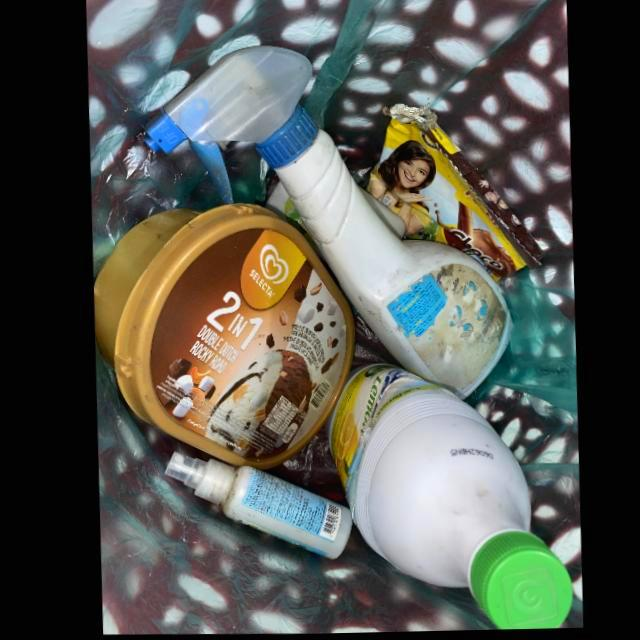food_wrapper: (349, 105, 541, 283)
plastic_bottle: (142, 48, 507, 400), (324, 364, 567, 632), (159, 452, 348, 561)
plastic_container: (91, 205, 352, 472)
